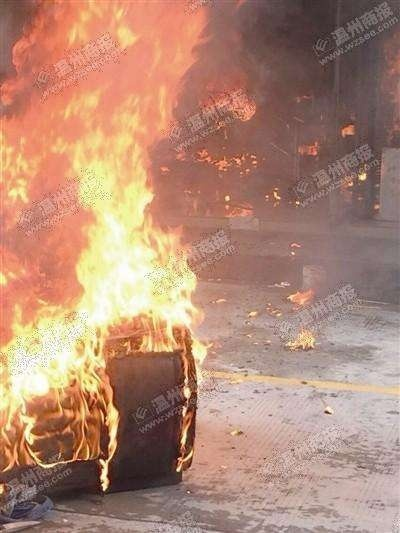fire: (0, 45, 227, 510)
